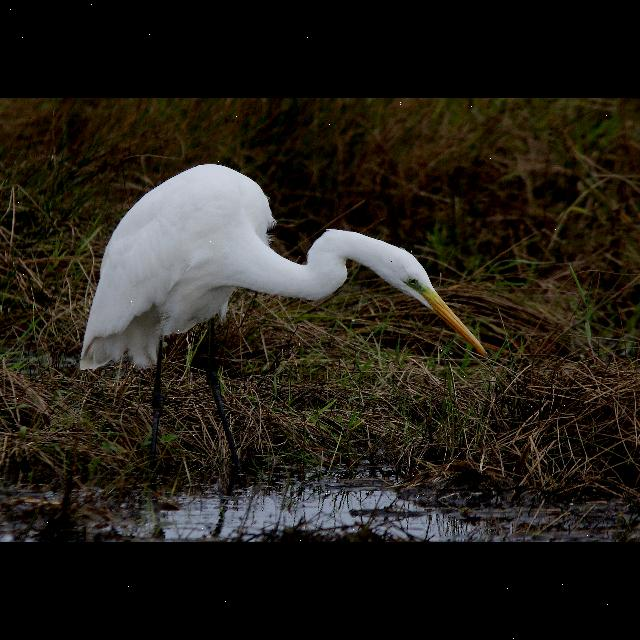egret: (78, 158, 498, 492)
